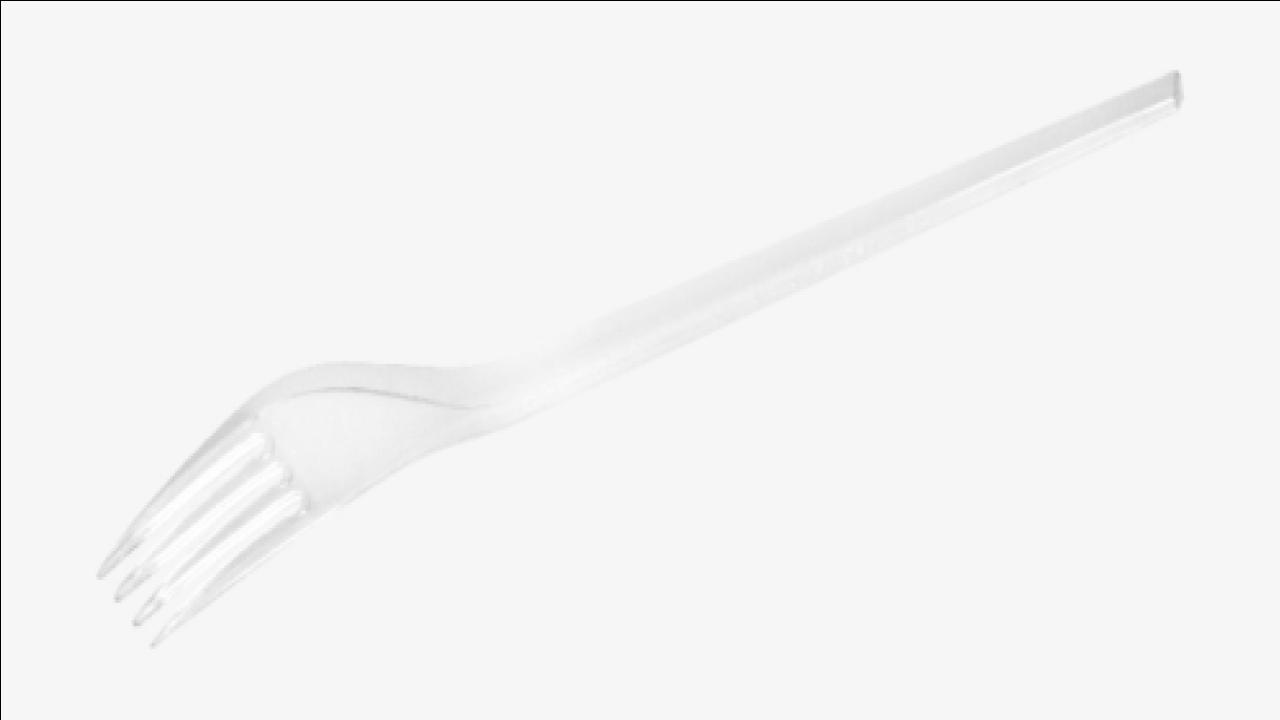fork: (98, 72, 1186, 651)
